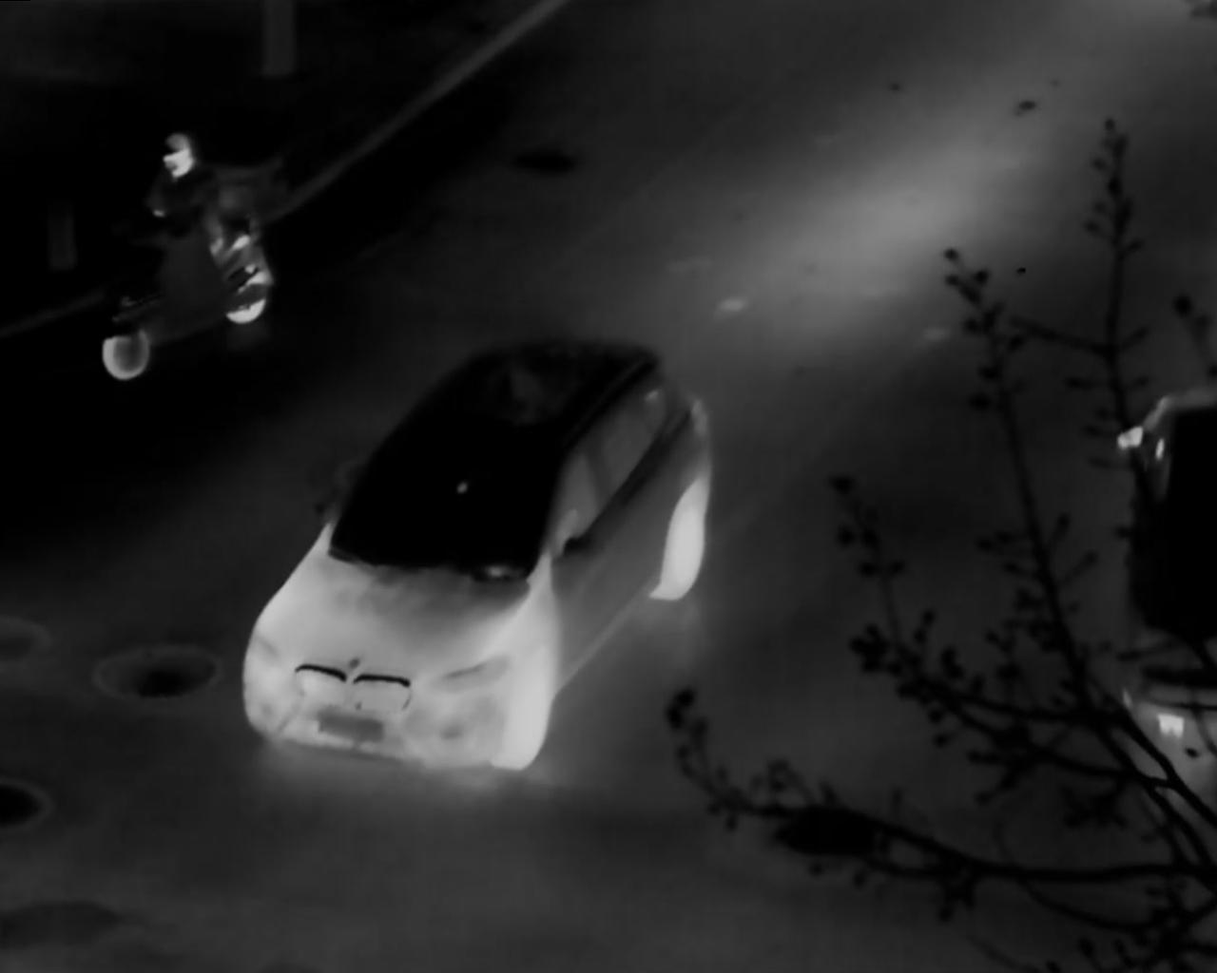person: (147, 130, 224, 256)
